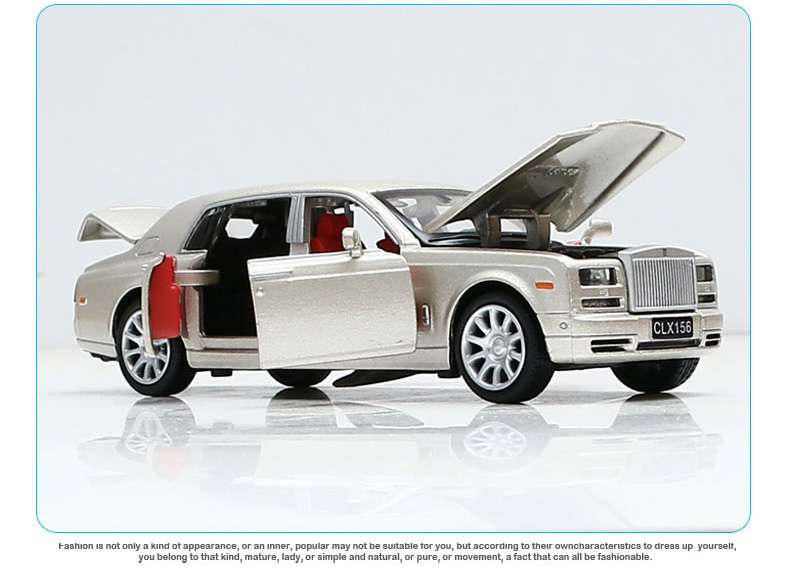Car: (60, 95, 730, 415)
